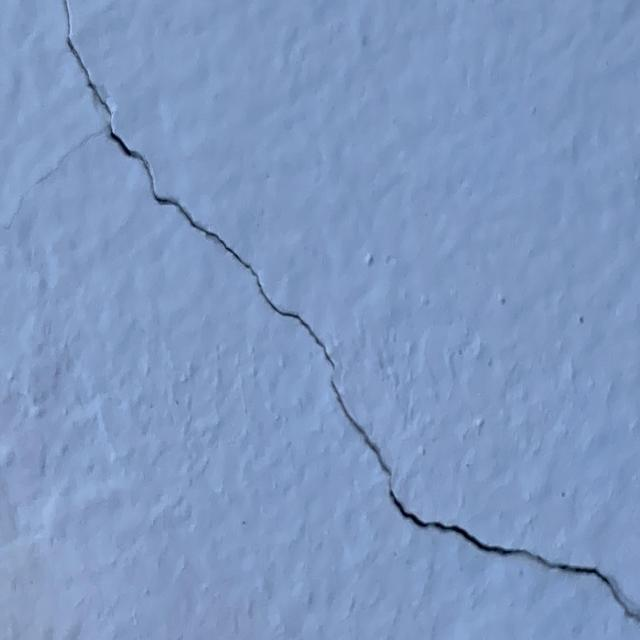SurfaceCrack: (10, 1, 638, 640)
